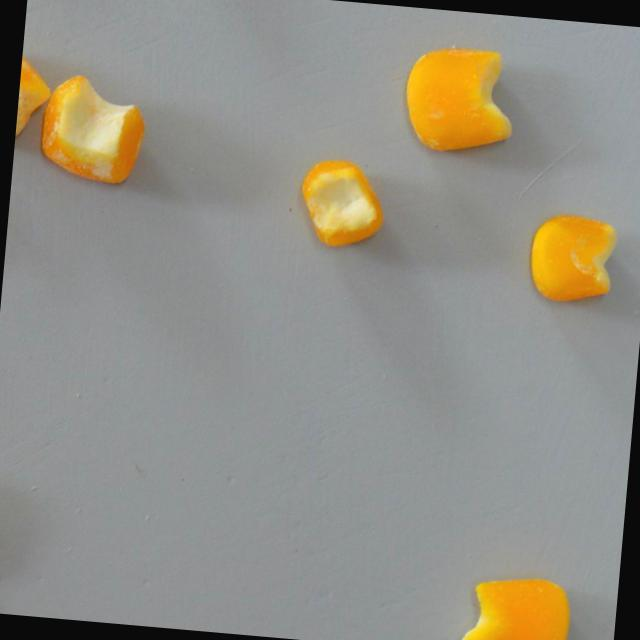no_canjicado: (401, 42, 520, 157), (528, 211, 618, 305)
no_desgerminado: (297, 156, 388, 249)
pelicula: (37, 71, 150, 186), (462, 572, 574, 640), (14, 41, 55, 150)
